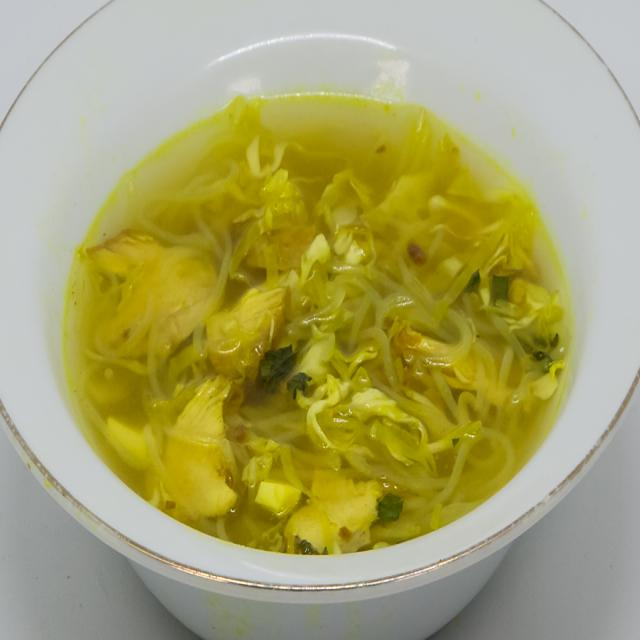Soto-Lamongan: (44, 55, 581, 558)
